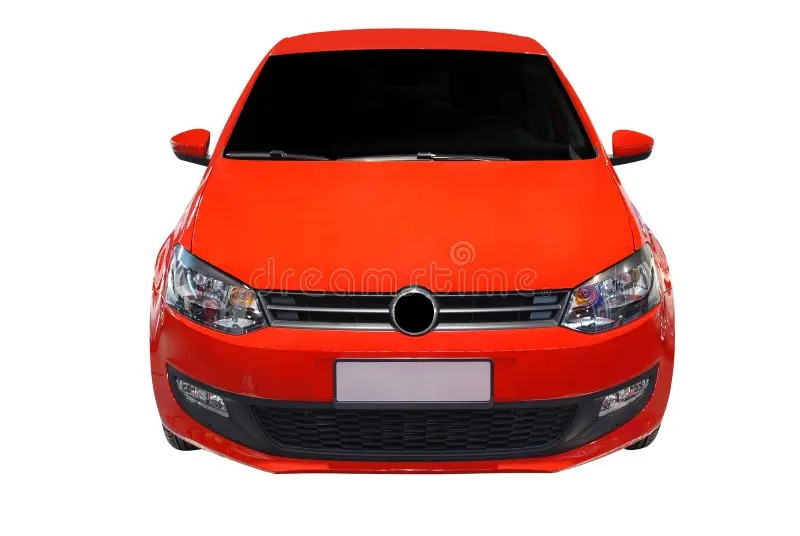car: (142, 22, 668, 472), (134, 42, 673, 476)
